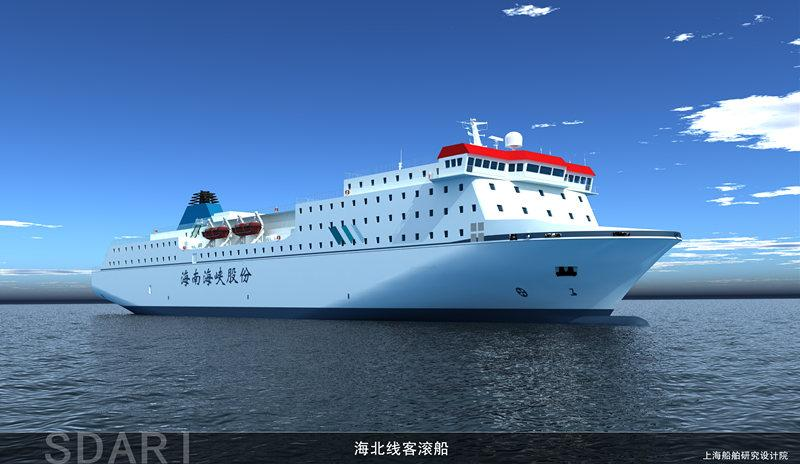youlun: (90, 117, 685, 315)
